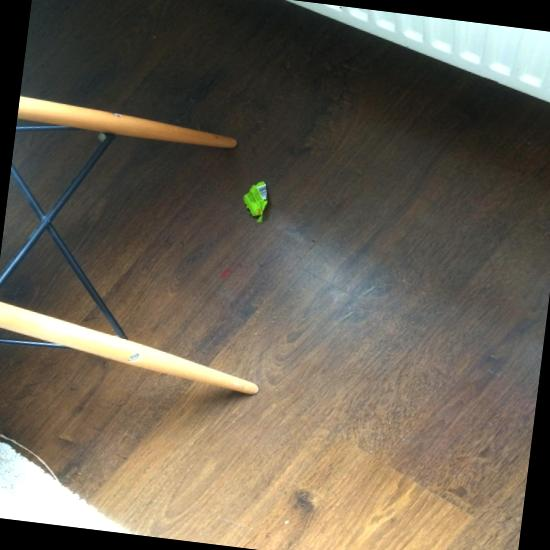Other plastic: (243, 181, 267, 222)
